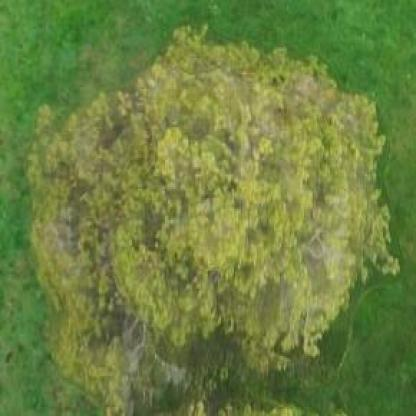Deciduous Tree: (25, 18, 404, 416)
